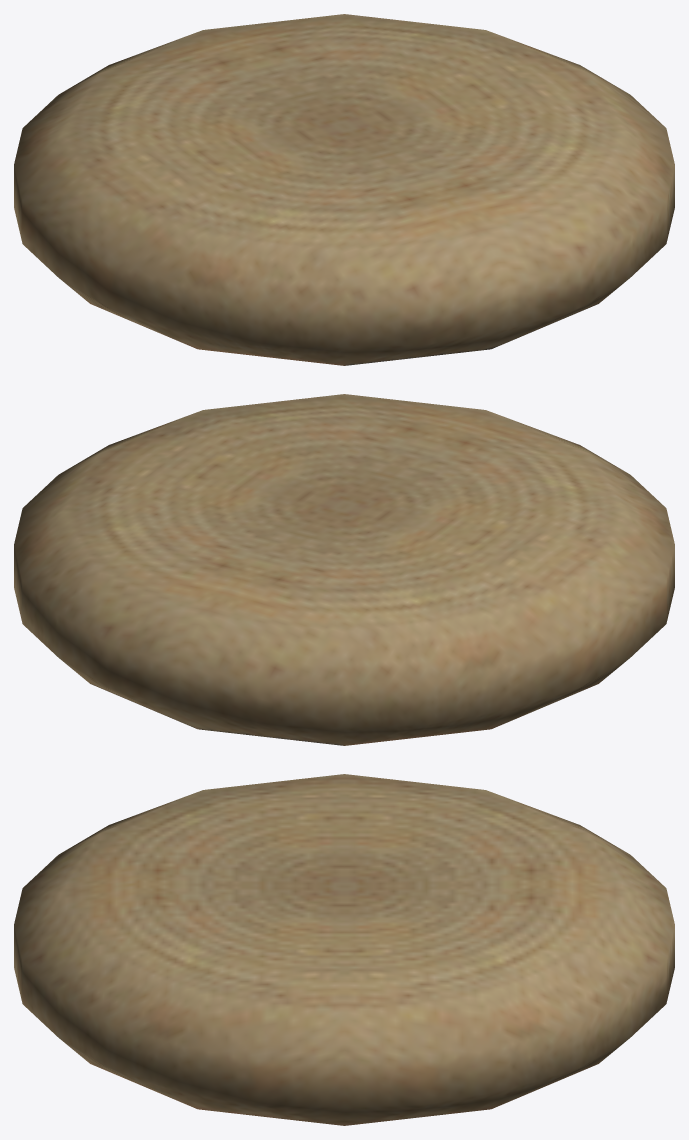
Rendered from Homeworld_Interior_Dq_Thing_Cushion_01_Vo.fbx.
The picture shows the model from 3 angles, top to bottom: view 1: azimuth 30°, elevation 25°; view 2: azimuth 150°, elevation 25°; view 3: azimuth 270°, elevation 25°; orthographic projection.
Parts seen in each view (by area): view 1: Area_Dq_Prop_MS_Cushion_01_Vo; view 2: Area_Dq_Prop_MS_Cushion_01_Vo; view 3: Area_Dq_Prop_MS_Cushion_01_Vo.
Part boxes in pixels (x1,y1,x2,y2): Area_Dq_Prop_MS_Cushion_01_Vo: [14, 14, 674, 365]; Area_Dq_Prop_MS_Cushion_01_Vo: [14, 394, 674, 745]; Area_Dq_Prop_MS_Cushion_01_Vo: [14, 774, 674, 1125].
Bounding box in the file's own units: 0.7467 × 0.1468 × 0.7467.
Materials: 1 (1 with a texture image).
